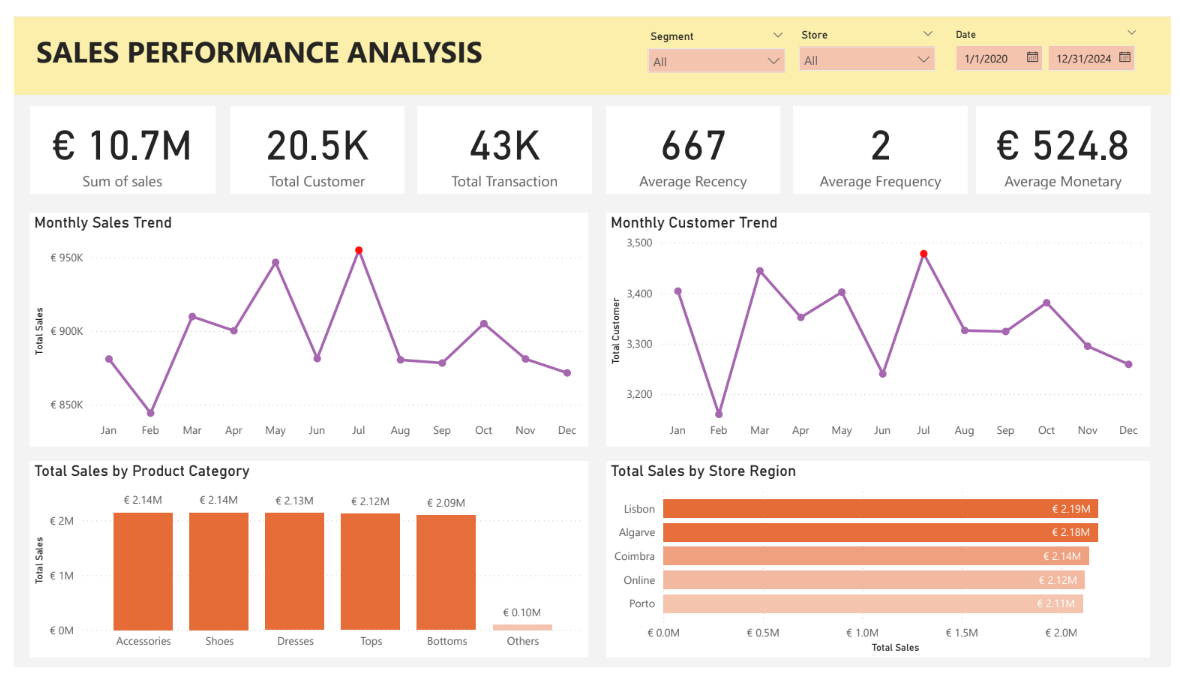

This screenshot's page, from the dashboard's own definition file:
{"tool":"powerbi","page":{"name":"Sales Analysis","canvas":[1280,720],"ordinal":0},"visuals":[{"type":"card","fields":{"Values":["Sum(df.sales)"]},"box":[17.8,98.8,205.6,97.2],"z":0},{"type":"card","fields":{"Values":["Count(df.transaction_id)"]},"box":[446.9,98.8,192.7,97.2],"z":1000},{"type":"card","fields":{"Values":["Count(df.customer_id)"]},"box":[239.6,98.8,192.7,97.2],"z":2000},{"type":"card","fields":{"Values":["Avg(rfm.recency)"]},"box":[655.8,98.8,192.7,97.2],"z":3000},{"type":"card","fields":{"Values":["Avg(rfm.monetary)"]},"box":[1065.5,98.8,192.7,97.2],"z":4000},{"type":"card","fields":{"Values":["Avg(rfm.frequency)"]},"box":[863,98.8,192.7,97.2],"z":5000},{"type":"lineChart","title":"Monthly Sales Trend","fields":{"Y":["Sum(df.sales)"],"Category":["DateTable.Month Name"]},"box":[17.8,217,618.5,259.1],"z":6000},{"type":"columnChart","title":"Total Sales by Product Category","fields":{"Y":["Sum(df.sales)"],"Category":["df.category"]},"box":[17.8,492.2,618.5,217],"z":7000},{"type":"barChart","fields":{"Y":["Sum(df.sales)"],"Category":["df.region"]},"box":[655.8,492.2,600.7,217],"z":8000},{"type":"lineChart","title":"Monthly Customer Trend","fields":{"Y":["Count(df.customer_id)"],"Category":["DateTable.Month Name"]},"box":[655.8,217,600.7,259.1],"z":9000},{"type":"shape","box":[0,0,1280.8,85.8],"z":10000},{"type":"textbox","box":[0,11.1,544,71.6],"z":11000},{"type":"slicer","fields":{"Values":["DateTable.Date"]},"box":[1029.9,8.5,225.1,79.3],"z":12000,"group":"g1"},{"type":"slicer","fields":{"Values":["SegmentOrder.Segment"]},"box":[691.5,10.1,171.6,61.5],"z":13000,"group":"g1"},{"type":"slicer","fields":{"Values":["df.region"]},"box":[858.3,8.5,171.6,61.5],"z":14000,"group":"g1"},{"type":"group","id":"g1","title":"Group 1","box":[691.5,8.5,564.4,79.7],"z":14001}]}

Visuals, with their boxes in screenshot pixels (x1, y1, x2, y2), scaled from the page's 1280x720 canvas onto the 1180x676 screenshot:
card - Sum(df.sales): <box>16,93,206,184</box>
card - Count(df.transaction_id): <box>412,93,590,184</box>
card - Count(df.customer_id): <box>221,93,399,184</box>
card - Avg(rfm.recency): <box>605,93,782,184</box>
card - Avg(rfm.monetary): <box>982,93,1160,184</box>
card - Avg(rfm.frequency): <box>796,93,973,184</box>
"Monthly Sales Trend" lineChart: <box>16,204,587,447</box>
"Total Sales by Product Category" columnChart: <box>16,462,587,666</box>
barChart - Sum(df.sales) x df.region: <box>605,462,1158,666</box>
"Monthly Customer Trend" lineChart: <box>605,204,1158,447</box>
shape: <box>0,0,1179,81</box>
textbox: <box>0,10,502,78</box>
slicer - DateTable.Date: <box>949,8,1157,82</box>
slicer - SegmentOrder.Segment: <box>637,9,796,67</box>
slicer - df.region: <box>791,8,949,66</box>
"Group 1" group: <box>637,8,1158,83</box>
